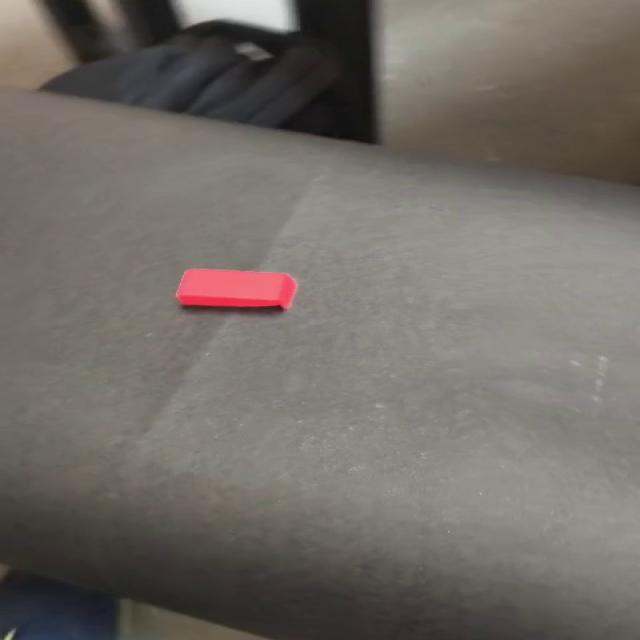red block: (174, 268, 298, 310)
